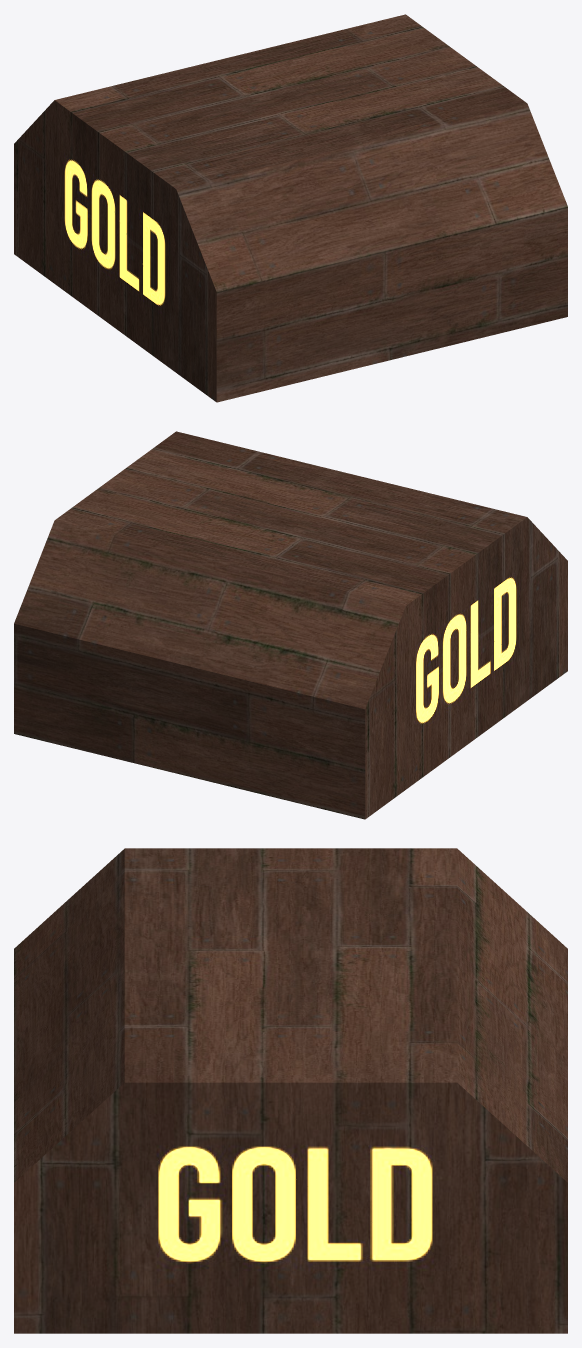
The model's file is treasure.glb.
3 views of the same model, one above another, from view 1: azimuth 30°, elevation 25°; view 2: azimuth 150°, elevation 25°; view 3: azimuth 270°, elevation 25° (orthographic). The views are drawn at different scales.
Visible parts, largest first — view 1: Cube; view 2: Cube; view 3: Cube.
Boxes of the visible parts, left/top/right/bottom form: Cube: left=14, top=14, right=567, bottom=402; Cube: left=14, top=431, right=567, bottom=819; Cube: left=14, top=848, right=567, bottom=1333.
Bounding box in the file's own units: 1 × 0.5 × 1.
1 material, 1 textured.
